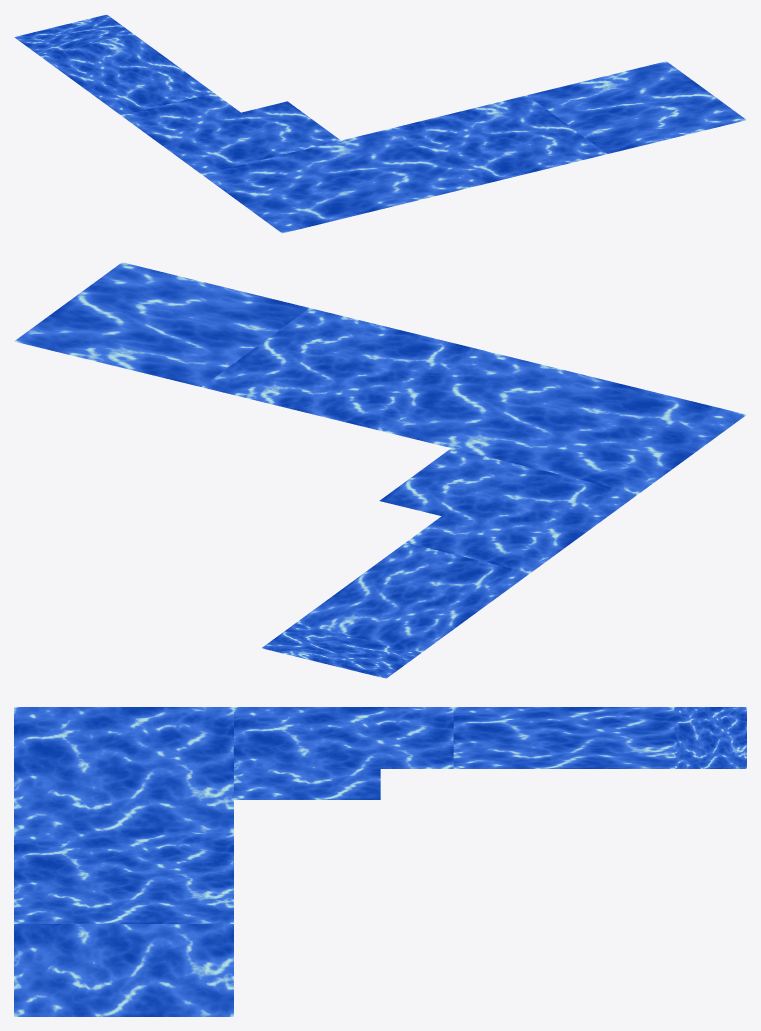
File: WaterPlane.obj
3 views of the same model, one above another, from view 1: azimuth 30°, elevation 25°; view 2: azimuth 150°, elevation 25°; view 3: azimuth 270°, elevation 25° (orthographic). The views are drawn at different scales.
Visible parts, largest first — view 1: pPlane1; view 2: pPlane1; view 3: pPlane1.
Part boxes in pixels (bbox=[...]): pPlane1: bbox=[14, 14, 746, 233]; pPlane1: bbox=[14, 262, 746, 678]; pPlane1: bbox=[14, 707, 746, 1016].
Size of the model in its own units: 23.88 by 0 by 23.88.
Materials: 1 (1 with a texture image).
